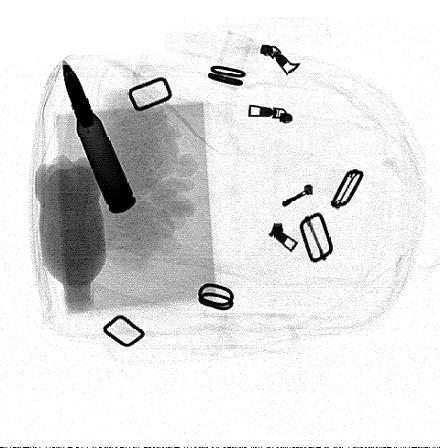Bullet: (62, 55, 138, 214)
